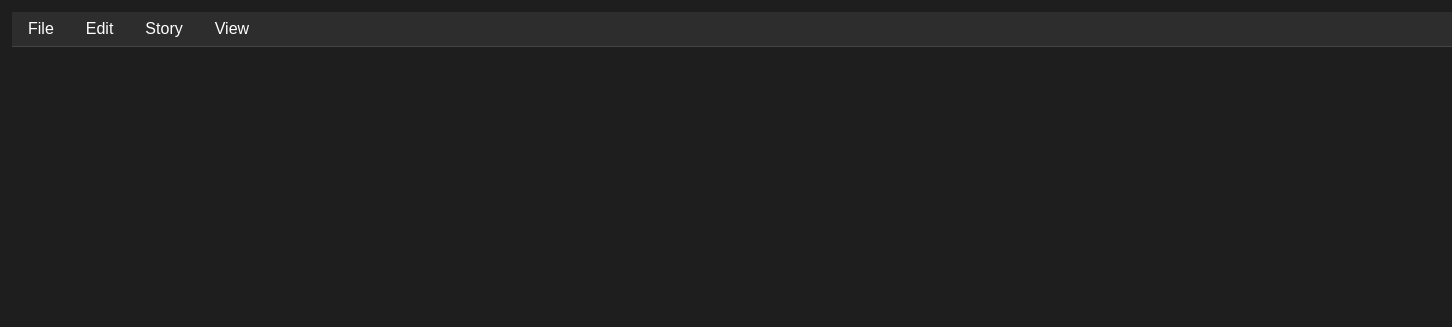
Scenario: Feature: Menu Bar Component › Scenario: User switches between menus › Given a menu is open, When the same menu is clicked again, Then it should close
# Open File menu
What coordinates should you click on to do the following:
click the button "File"
I would click on:
 (41, 29)
Its box is x1=12 y1=12 x2=70 y2=46.
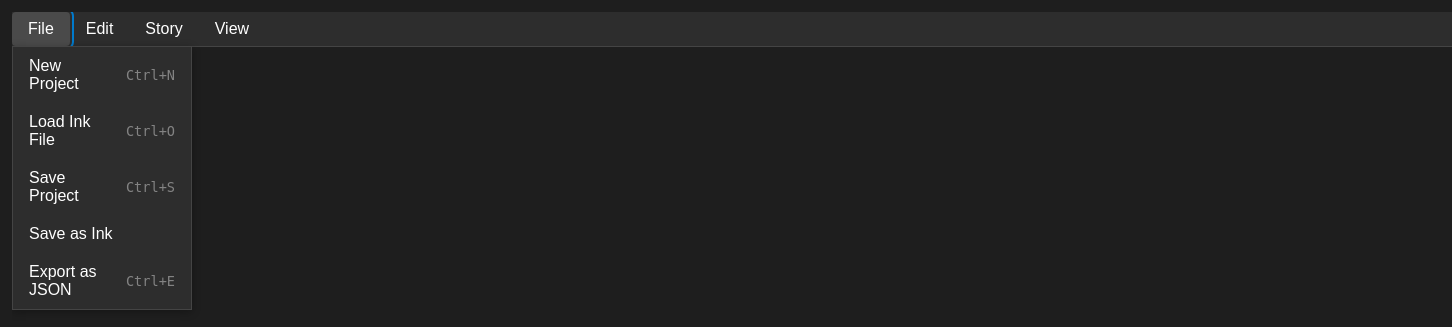
Expected: the text "New Project" is shown, x1=29 y1=57 x2=79 y2=92
# Click File again to close
What coordinates should you click on to do the following:
click the button "File"
I would click on:
 (41, 29)
Its box is x1=12 y1=12 x2=70 y2=46.
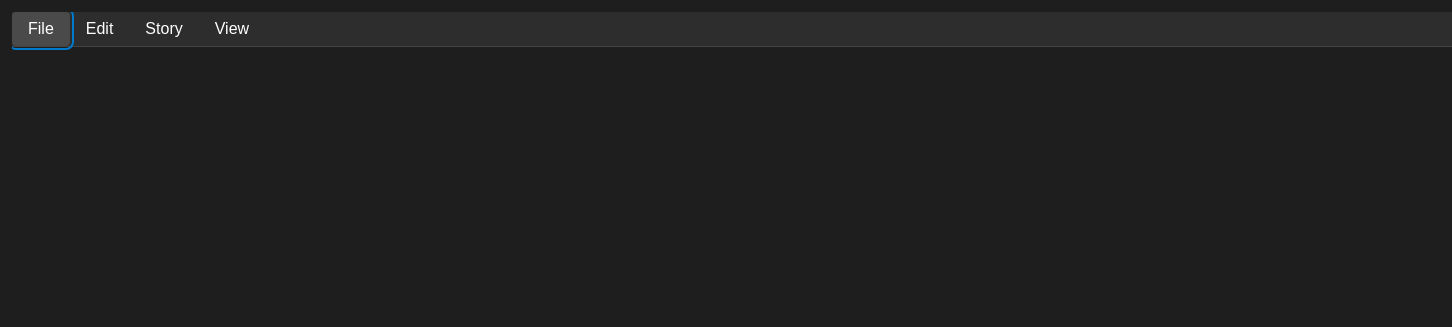
Expected: the menu item "New Project" is gone
